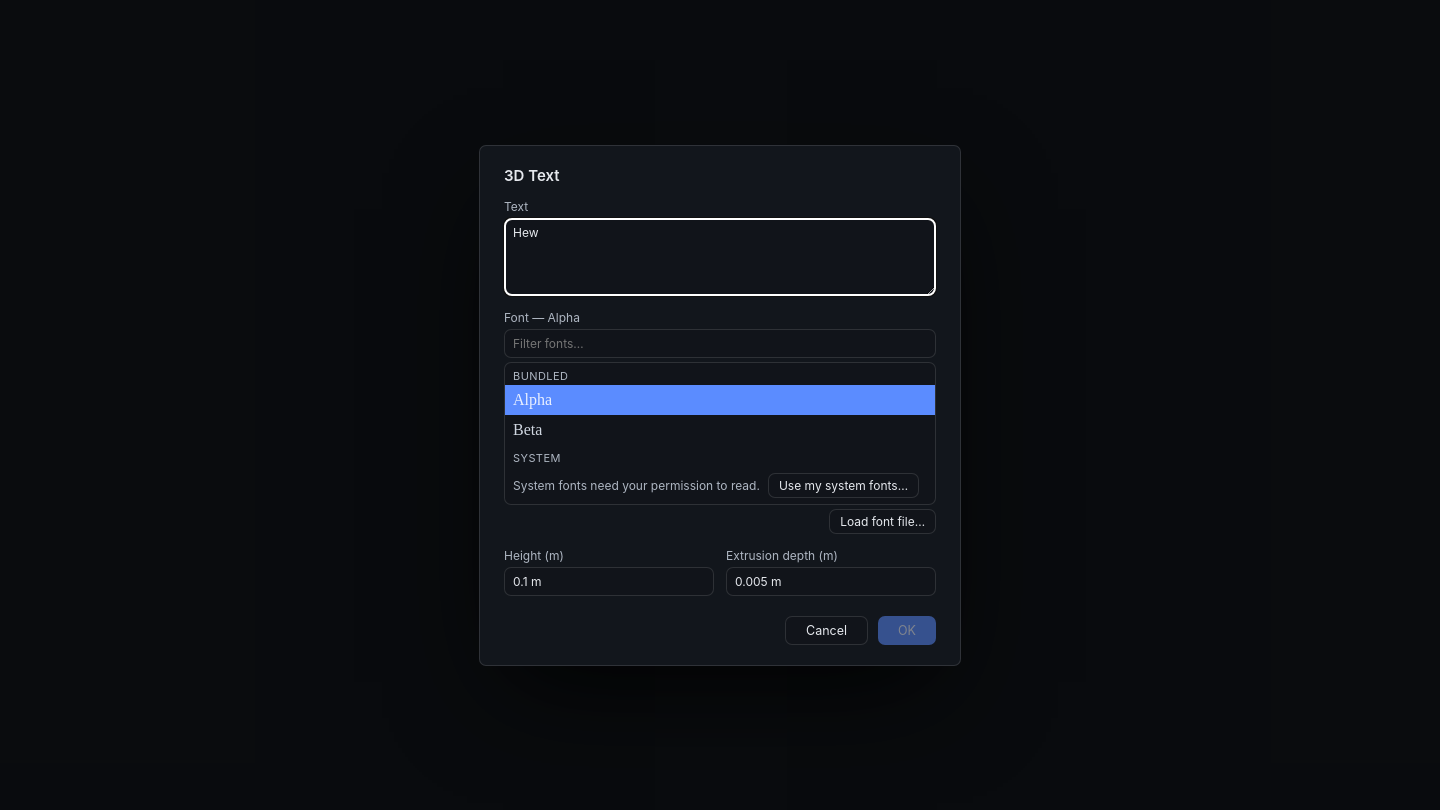
TextDialog font picker › system fonts: web (queryLocalFonts) provider › a successful-but-empty resolve (this build's queryLocalFonts behavior with no permission granted) shows an honest note and a way to try again, not a blank headi
Expected: the text "Alpha" is shown, [513,390,552,408]
Click the button "Use my system fonts…": (843, 485) [768,472,919,498]
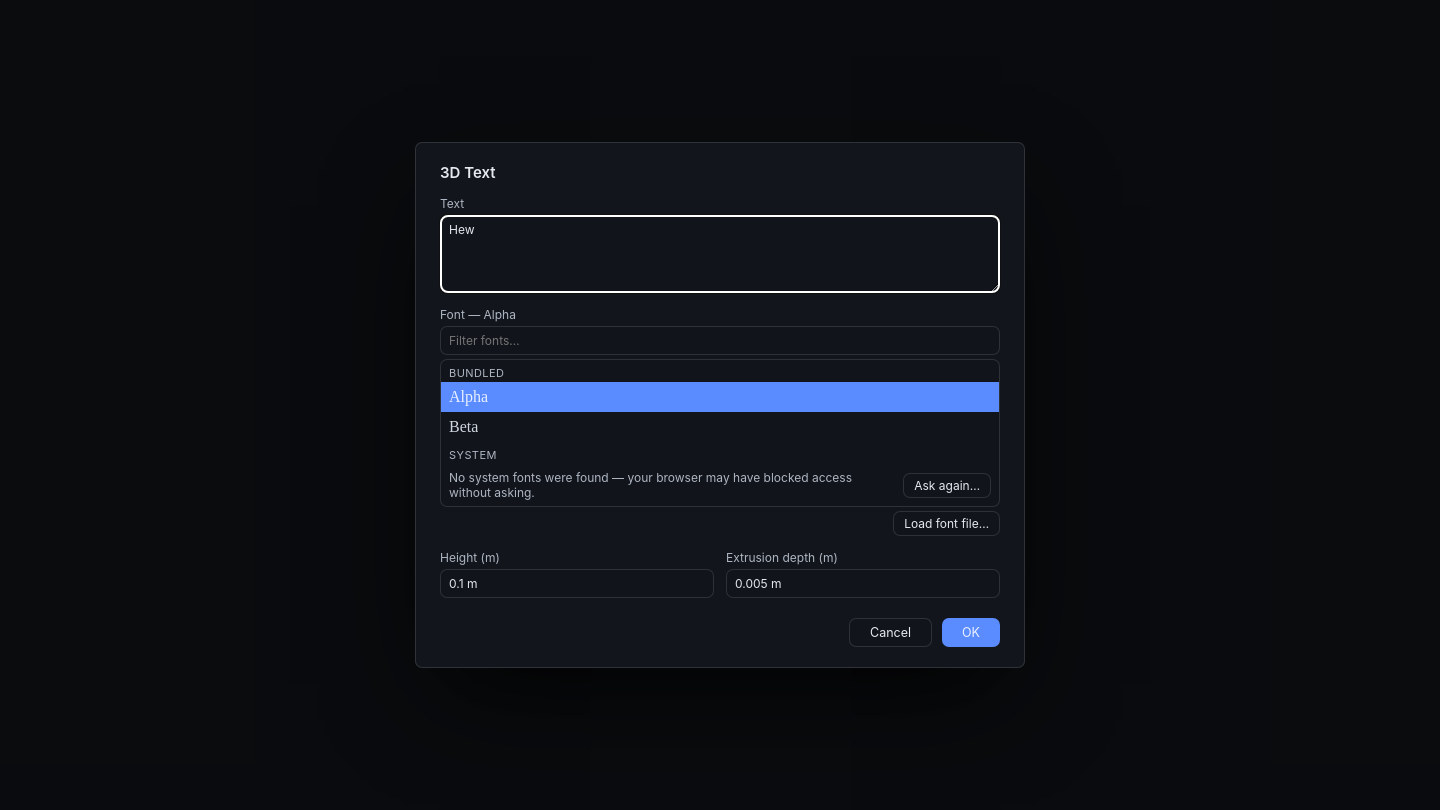
Result: the text "No system fonts were found — your browser may have blocked access without asking." is shown at [449,470,852,500]
Result: the button "Ask again…" is shown at [903,472,991,498]
